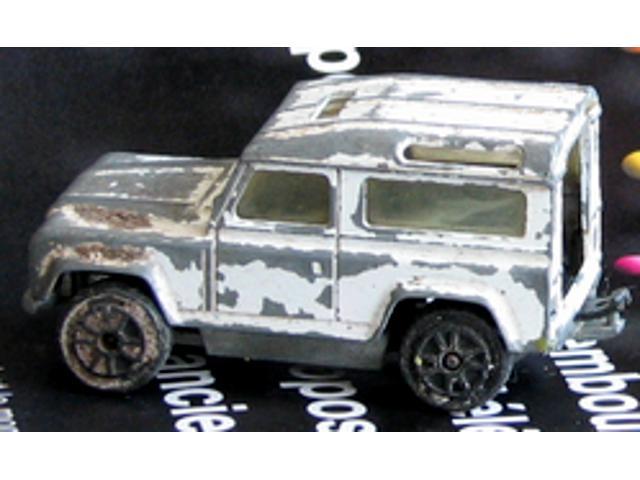toy-car: (19, 71, 632, 417)
